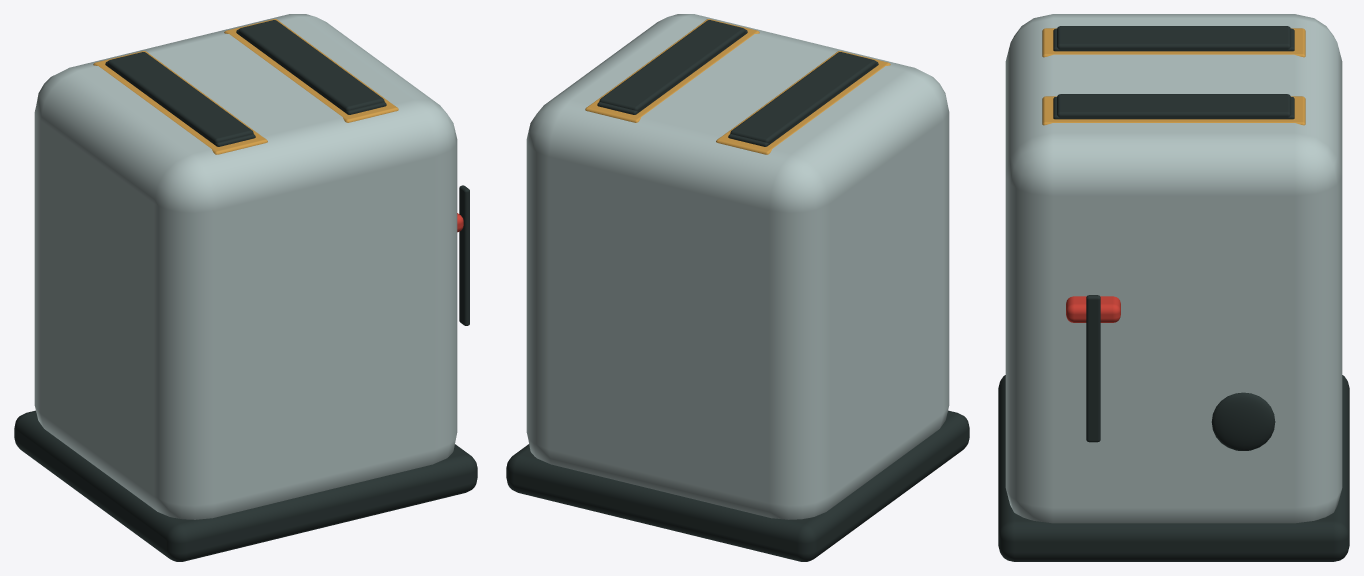
File: toaster-light.glb
The picture shows the model from 3 angles, left to right: view 1: azimuth 30°, elevation 25°; view 2: azimuth 150°, elevation 25°; view 3: azimuth 270°, elevation 25°; orthographic projection. The views are drawn at different scales.
Parts seen in each view (by area): view 1: steel, dark, brass; view 2: steel, dark, brass; view 3: steel, dark, brass, red.
Boxes of the visible parts, x1,y1,x2,y2 form: steel: (34, 14, 457, 519); dark: (14, 20, 477, 561); brass: (93, 19, 398, 154); steel: (526, 14, 949, 519); dark: (506, 20, 969, 561); brass: (585, 19, 890, 154); steel: (1005, 14, 1342, 523); dark: (998, 26, 1349, 561); brass: (1042, 28, 1305, 125); red: (1066, 296, 1120, 322).
Bounding box in the file's own units: 0.569 × 0.63 × 0.48.
